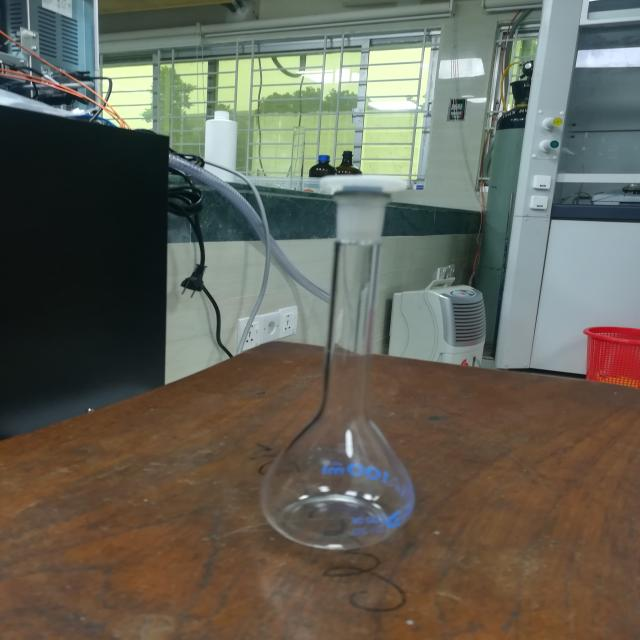Volumetric_Flask: (233, 147, 454, 593)
